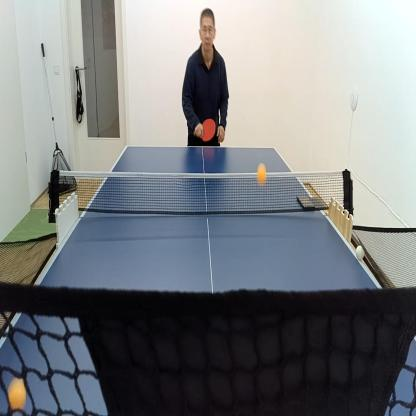Ball: (7, 374, 28, 413), (255, 162, 268, 189), (354, 244, 366, 262)
